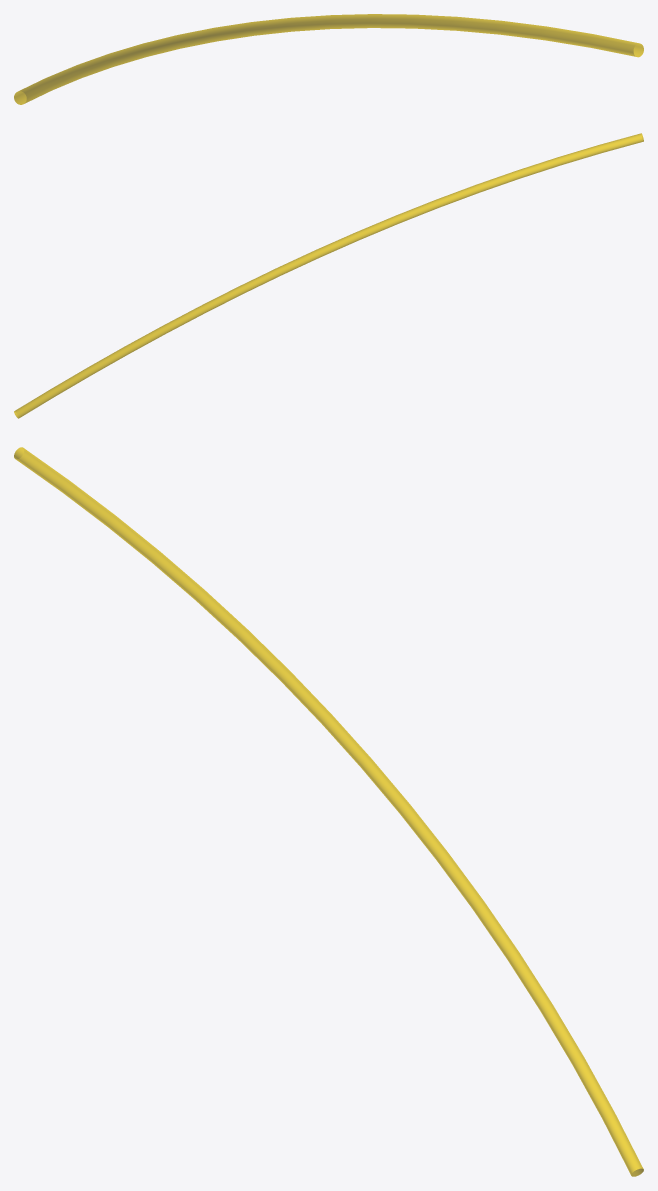
Rendered from Event_402970704_track_3.fbx.
3 renders of one model, top to bottom at view 1: azimuth 90°, elevation 25°; view 2: azimuth 150°, elevation 25°; view 3: azimuth 270°, elevation 25°, orthographic. The views are drawn at different scales.
Visible parts, largest first — view 1: Model; view 2: Model; view 3: Model.
Boxes of the visible parts, box(x1,y1,x2,y2) form: Model: box(14, 14, 643, 104); Model: box(14, 133, 643, 418); Model: box(14, 447, 643, 1176).
Bounding box in the file's own units: 2.29 × 1.24 × 1.79.
